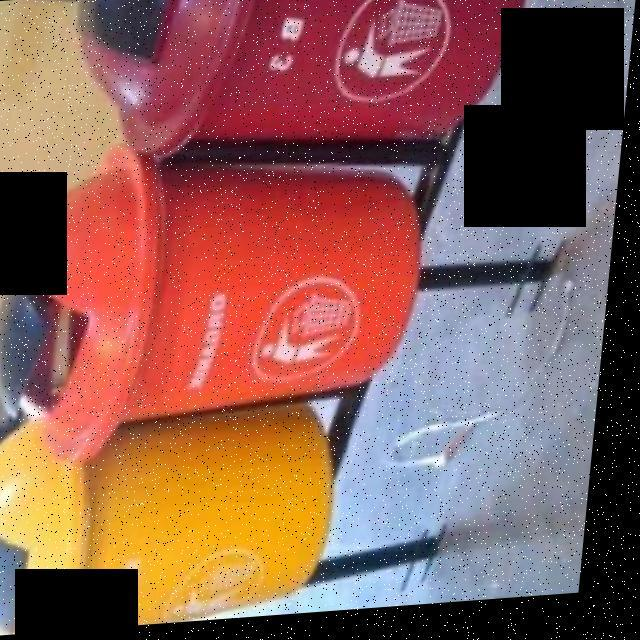bin: (10, 131, 444, 465), (0, 397, 371, 640), (58, 0, 556, 180)
